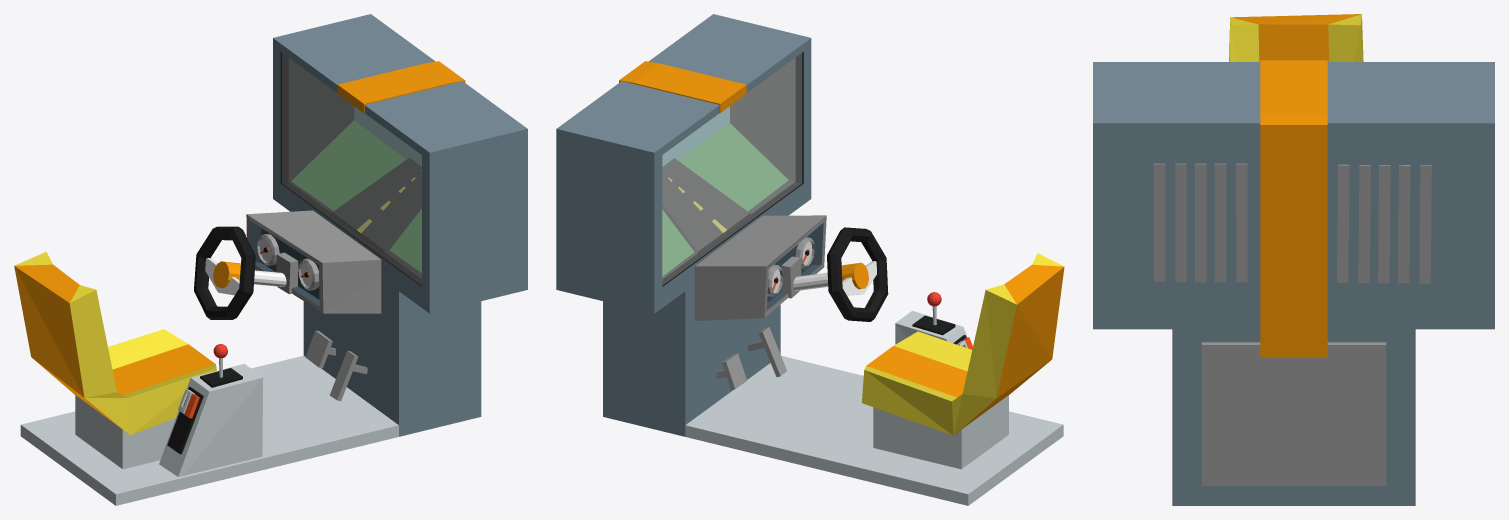
The model's file is cockpit.glb.
3 views of the same model, side by side, from view 1: azimuth 30°, elevation 25°; view 2: azimuth 150°, elevation 25°; view 3: azimuth 270°, elevation 25° (orthographic). The views are drawn at different scales.
Parts seen in each view (by area): view 1: group827629793, group292286592, group159342438, group2026890297, group1331758738, group582314839, group1488273743, group688452131, group1622686070, group1428299797, group736752094, group1935166058 (+2 smaller); view 2: group827629793, group1331758738, group292286592, group2026890297, group159342438, group582314839, group1488273743, group1428299797, group1622686070, group736752094, group688452131, group1298281727 (+1 smaller); view 3: group827629793, group1484379470, group736752094, group159342438, group341856492, group566884955, group2026890297.
Part boxes in pixels (x1,y1,x2,y2): group827629793: (273,14,527,313); group292286592: (282,53,421,285); group159342438: (303,278,481,436); group2026890297: (14,251,216,435); group1331758738: (20,355,398,505); group582314839: (291,120,421,272); group1488273743: (246,210,381,313); group688452131: (159,363,262,476); group1622686070: (194,226,255,319); group1428299797: (75,395,175,469); group736752094: (337,61,465,113); group1935166058: (167,387,203,454); group827629793: (556,14,811,313); group1331758738: (685,356,1063,505); group292286592: (662,53,801,285); group2026890297: (862,253,1064,435); group159342438: (603,284,780,436); group582314839: (662,123,788,275); group1488273743: (694,215,826,320); group1428299797: (873,395,1008,469); group1622686070: (827,227,888,321); group736752094: (619,61,746,113); group688452131: (895,311,967,344); group1298281727: (758,327,786,377); group827629793: (1093,62,1494,329); group1484379470: (1201,342,1386,485); group736752094: (1260,60,1327,357); group159342438: (1172,329,1415,505); group341856492: (1153,163,1247,282); group566884955: (1337,164,1431,283); group2026890297: (1229,14,1363,61).
Size of the model in its own units: 3.69 by 2.64 by 2.44.
